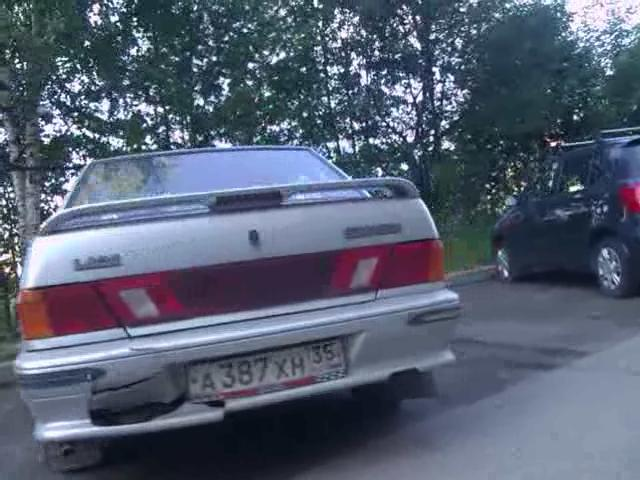car license plate: (182, 333, 350, 416)
